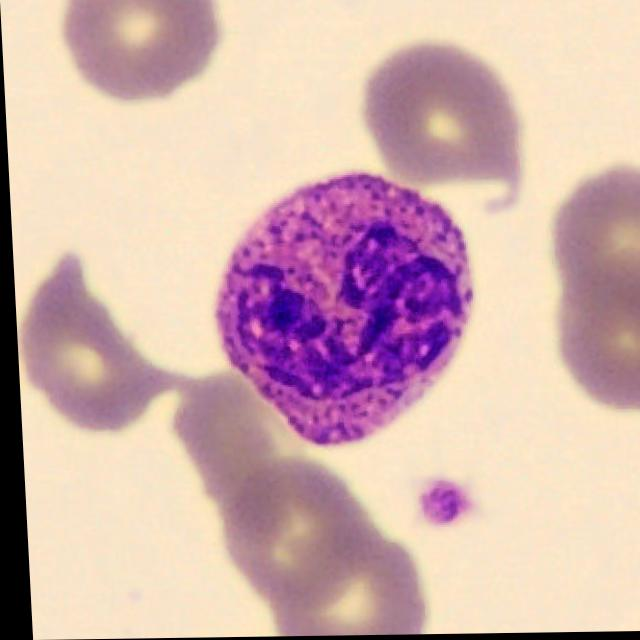Neutrofilo segmentado: (209, 174, 473, 451)
